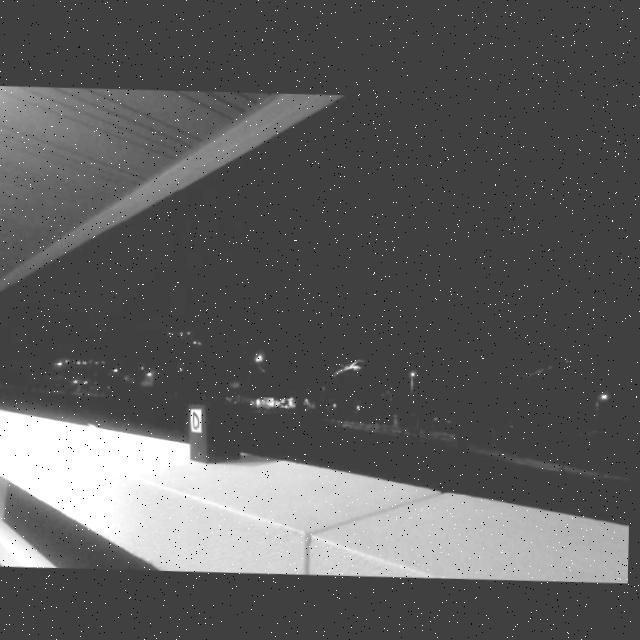D: (192, 408, 202, 429)
